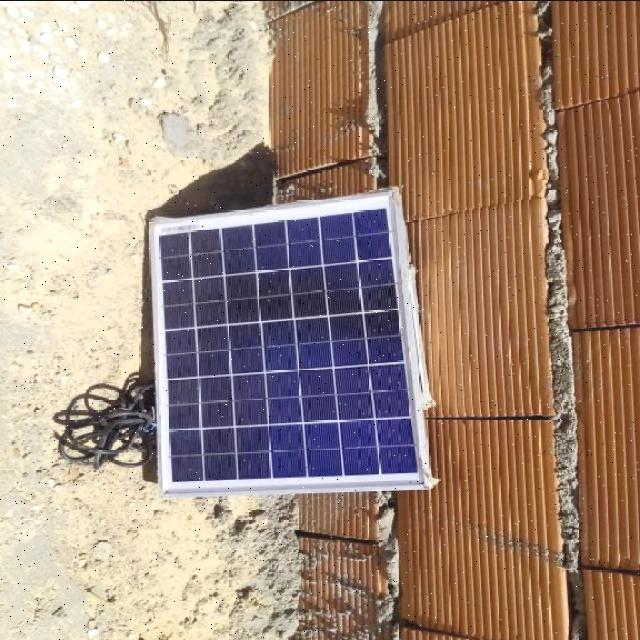Normal Solar Panel: (151, 192, 427, 496)
